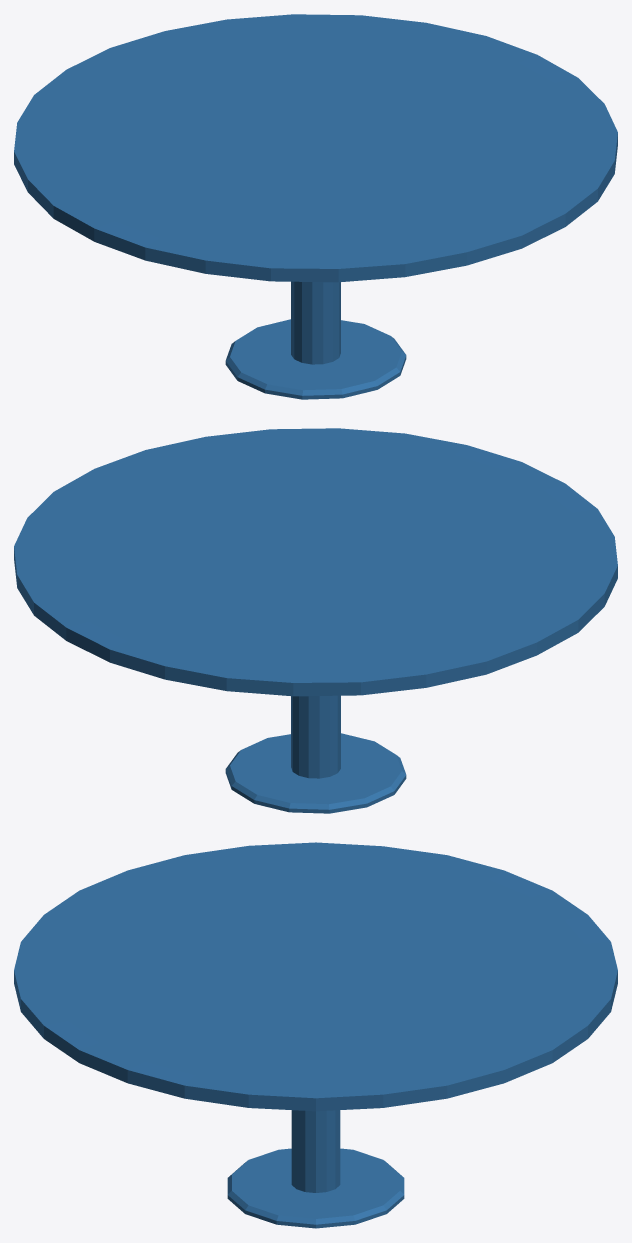
Rendered from mesaredonda01.fbx.
The picture shows the model from 3 angles, top to bottom: view 1: azimuth 30°, elevation 25°; view 2: azimuth 150°, elevation 25°; view 3: azimuth 270°, elevation 25°; orthographic projection.
Visible parts, largest first — view 1: pCylinder5; view 2: pCylinder5; view 3: pCylinder5.
Part boxes in pixels (left/top/right/bottom): pCylinder5: left=14, top=14, right=617, bottom=399; pCylinder5: left=14, top=428, right=617, bottom=813; pCylinder5: left=14, top=842, right=617, bottom=1228.
Bounding box in the file's own units: 2.21 × 0.8848 × 2.2.
